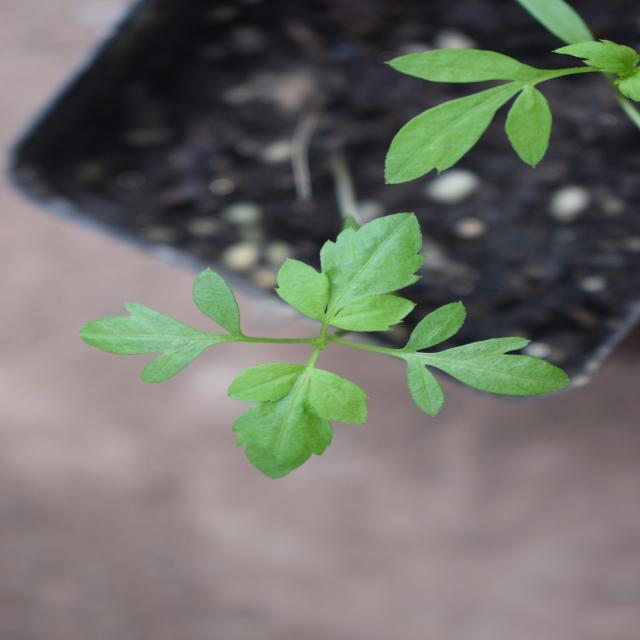Bidens pilosa: (140, 76, 428, 556)
